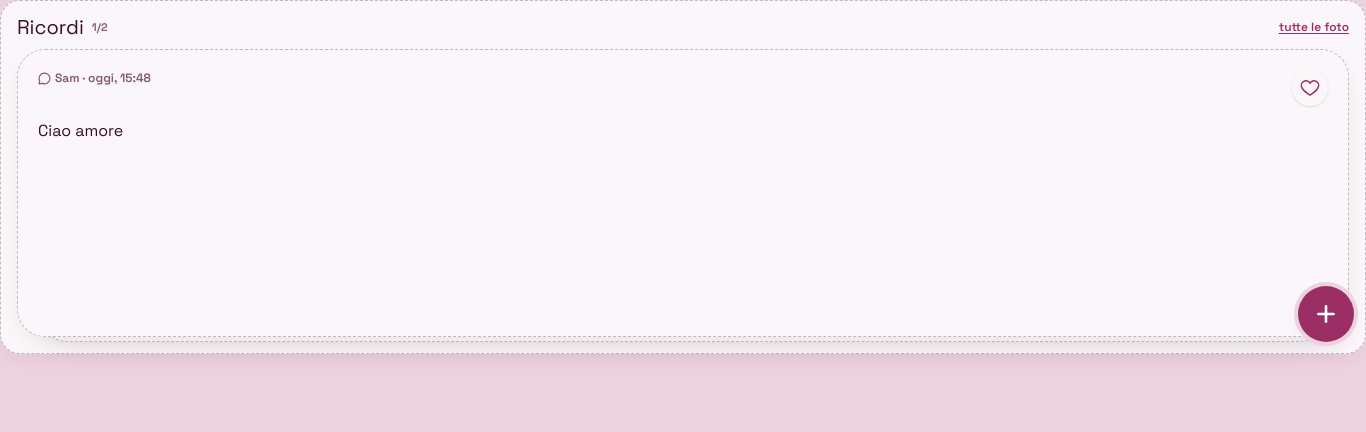
it: MemoriesDeck › swipe a destra torna alla card precedente (nessuna card va persa)
Check: the text "Ciao amore" is shown, box [38,120,123,141]
Step 1. Press the mouse on the element with test id "memory-card" → coordinates (683, 193), box [17,49,1349,337]
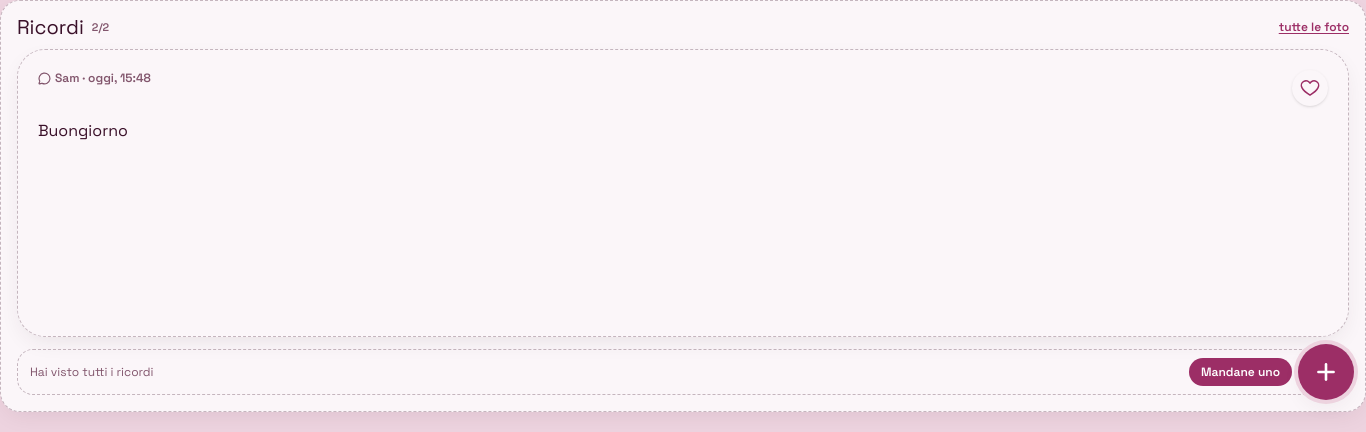
Check: the element with test id "memory-card" shows "Buongiorno", box [38,120,128,141]
Step 2. Press the mouse on the element with test id "memory-card" → coordinates (683, 193), box [17,49,1349,337]
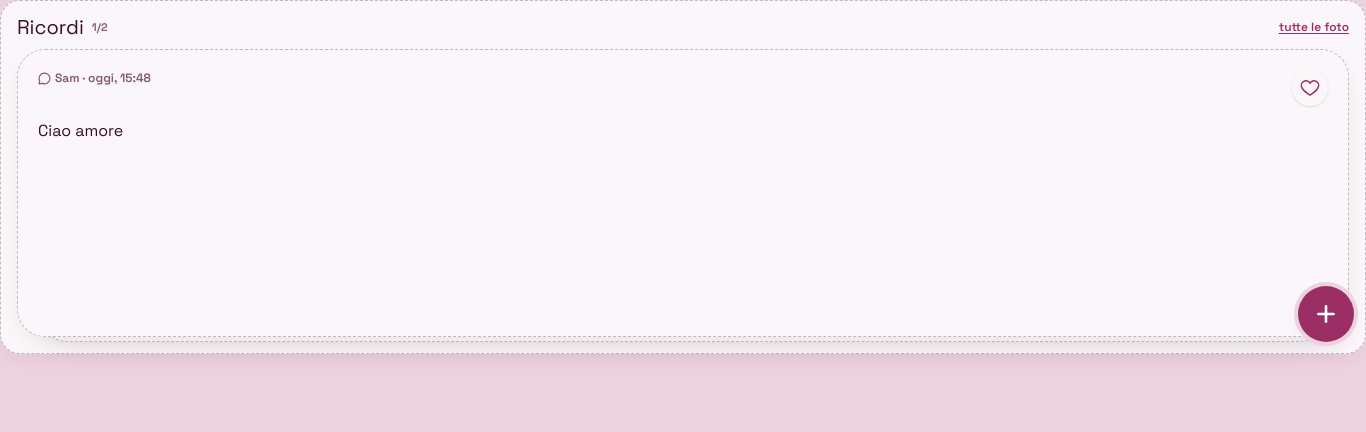
Check: the element with test id "memory-card" shows "Ciao amore", box [38,120,123,141]
